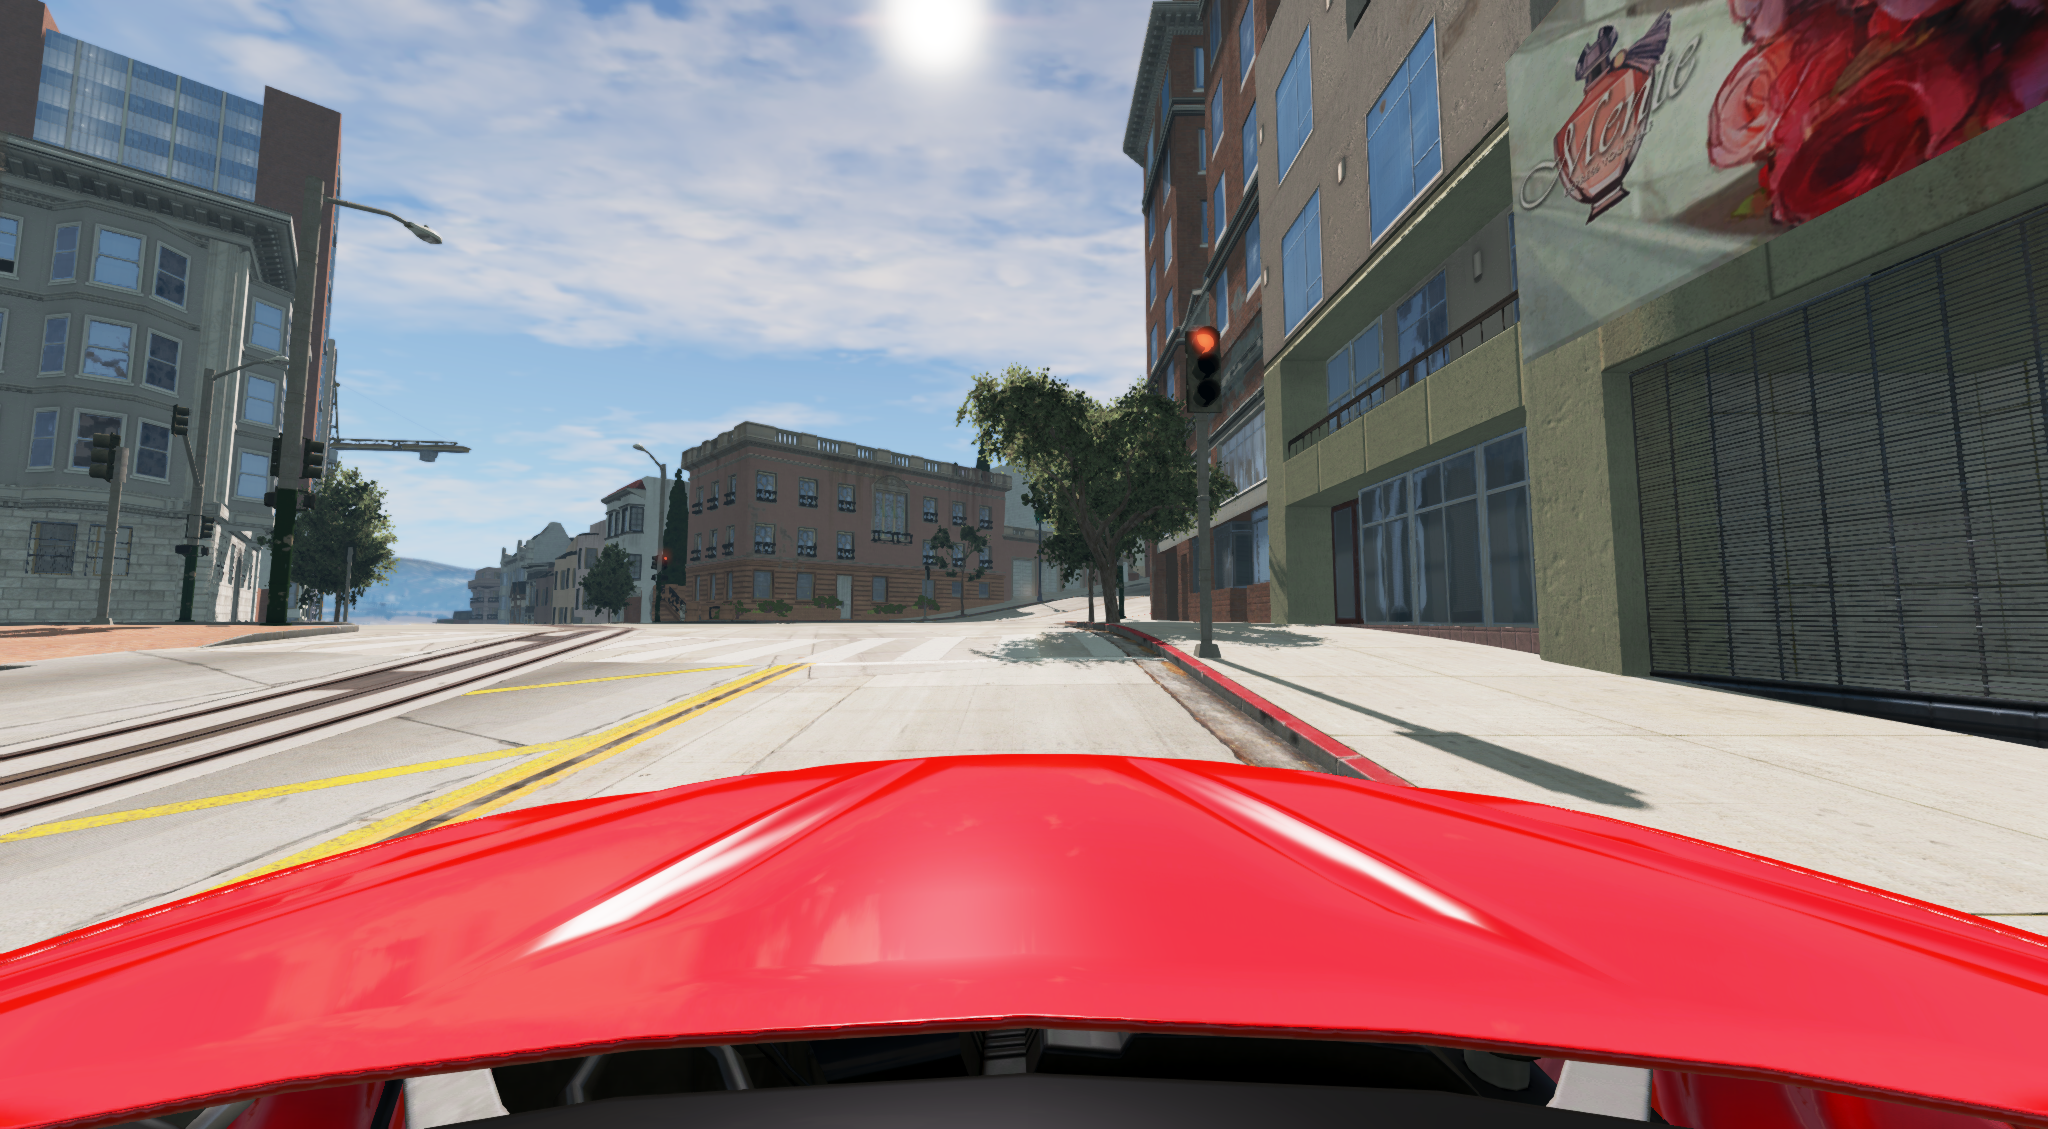red: (1179, 328, 1228, 413)
